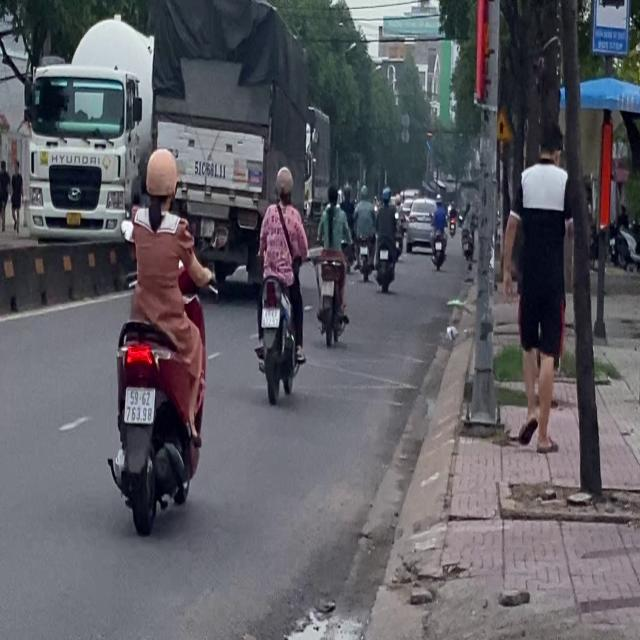helmet: (144, 146, 178, 214), (274, 165, 293, 202)
licenseplate: (105, 143, 211, 534), (252, 164, 308, 401)
nohelmet: (124, 386, 154, 422), (262, 308, 279, 327)
